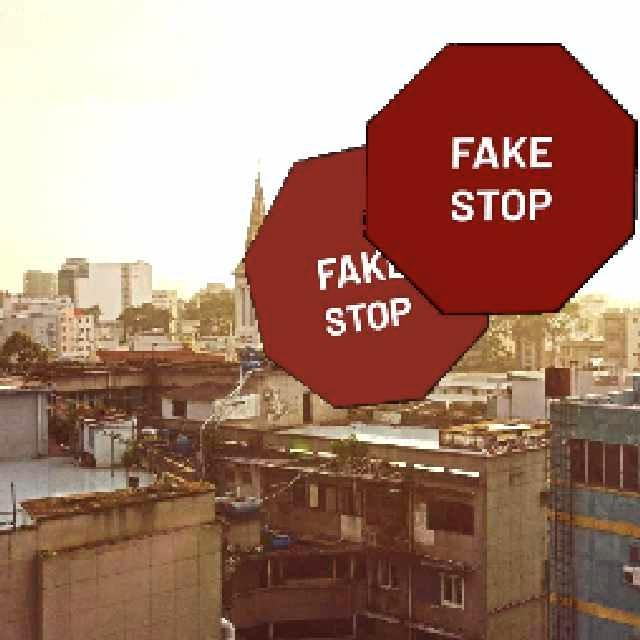FAKE_STOP: (362, 40, 636, 314), (240, 133, 489, 407)
